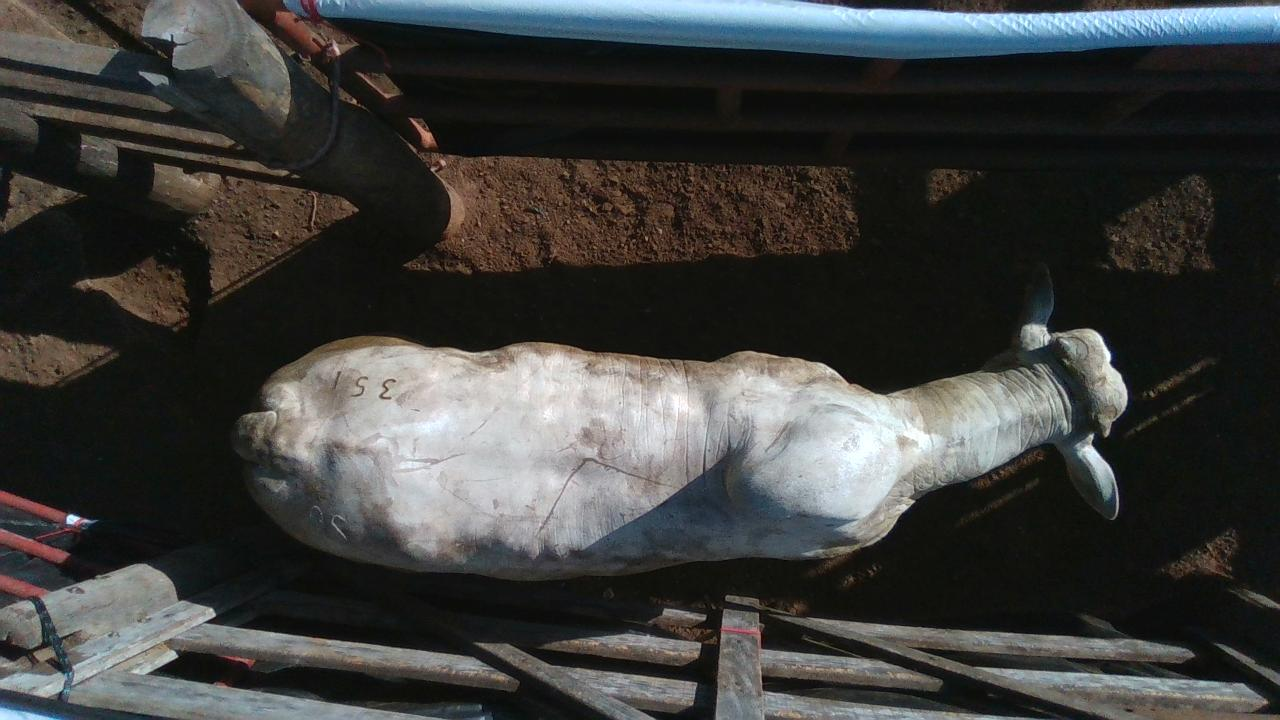cattle: (229, 260, 1130, 584)
